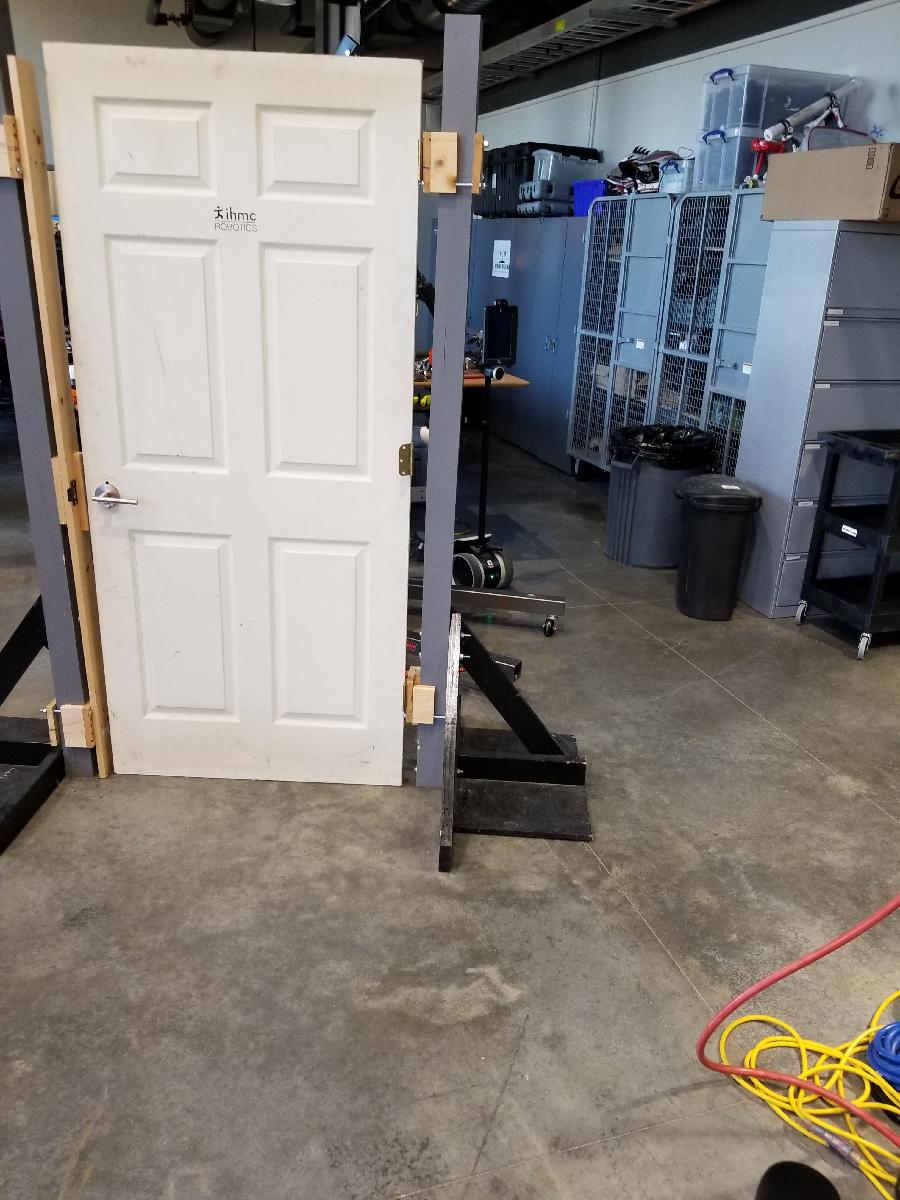door: (38, 34, 434, 798)
doorHandle: (93, 480, 142, 518)
